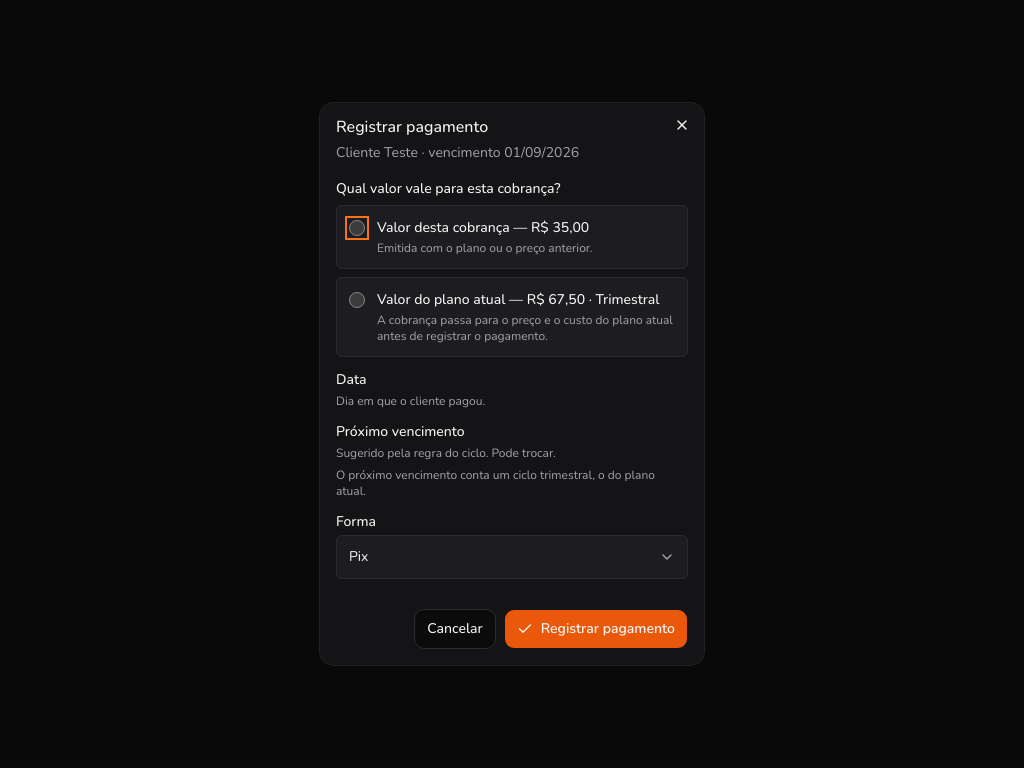
Test: RegisterPaymentDialog — cobrança com valor de um plano anterior › com desconto vigente, o plano atual preenche o preço menos o desconto
Click the 2nd radio button. click: (357, 300)
box: top-left (349, 292), bottom-right (365, 308)
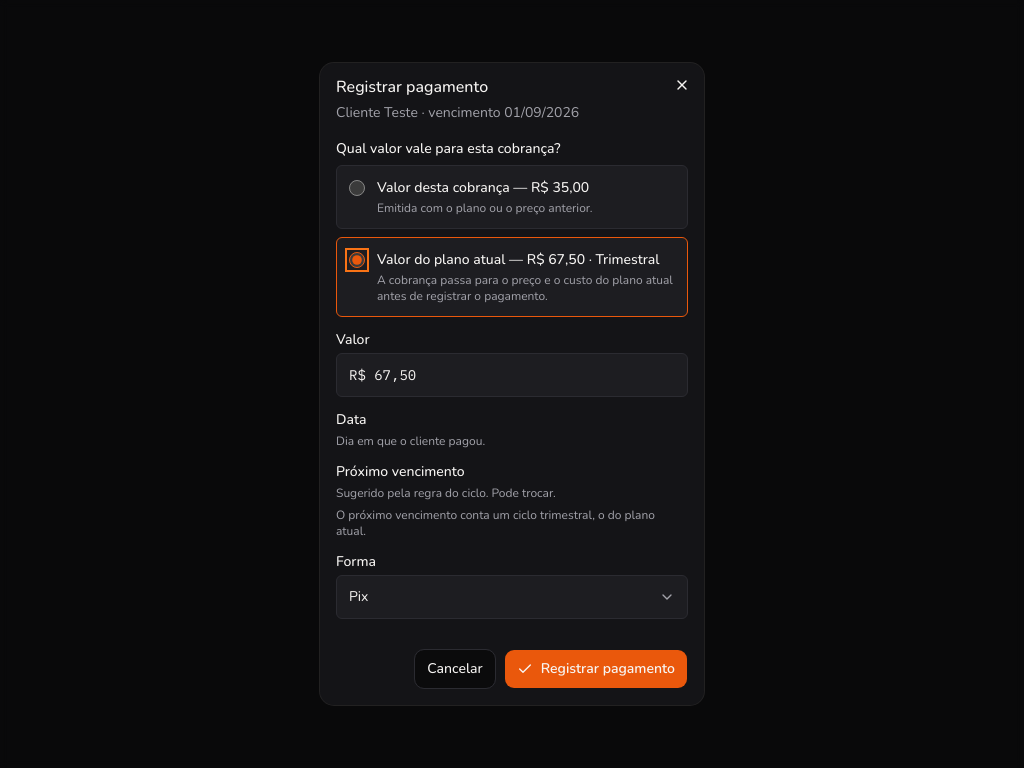
Expected: the field labelled "Valor" holds "R$ 67,50", top-left (336, 353), bottom-right (688, 397)
